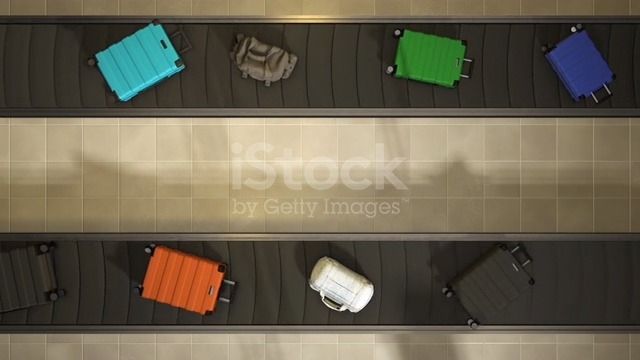Bag: (85, 18, 197, 108), (438, 237, 539, 331), (129, 240, 244, 320), (536, 22, 618, 106), (381, 24, 476, 88), (0, 240, 70, 316), (304, 256, 377, 317), (222, 32, 299, 87)
Handle: (167, 26, 194, 58), (509, 241, 534, 269), (216, 278, 240, 305), (590, 82, 613, 105), (458, 55, 475, 82)
Straps: (320, 292, 346, 311)
